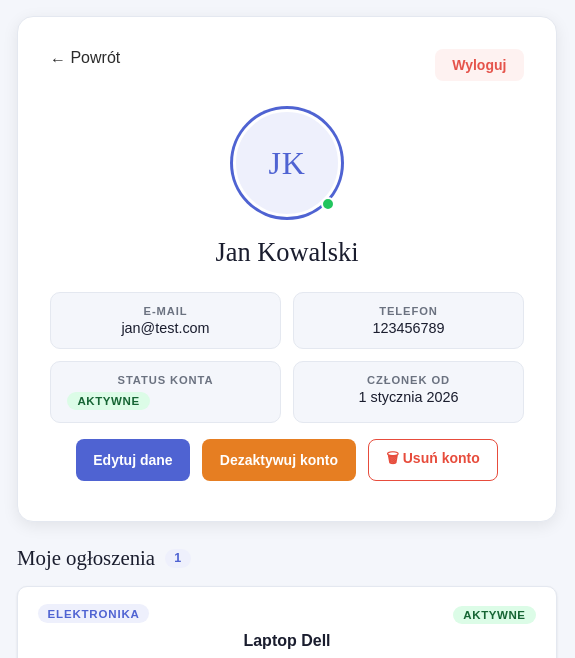
UserProfile › anuluje edycję danych
Check: the heading "Jan Kowalski" is shown, box top-left (216, 237), bottom-right (358, 268)
Click the button "Edytuj dane".
click(133, 460)  # box top-left (76, 439), bottom-right (190, 481)
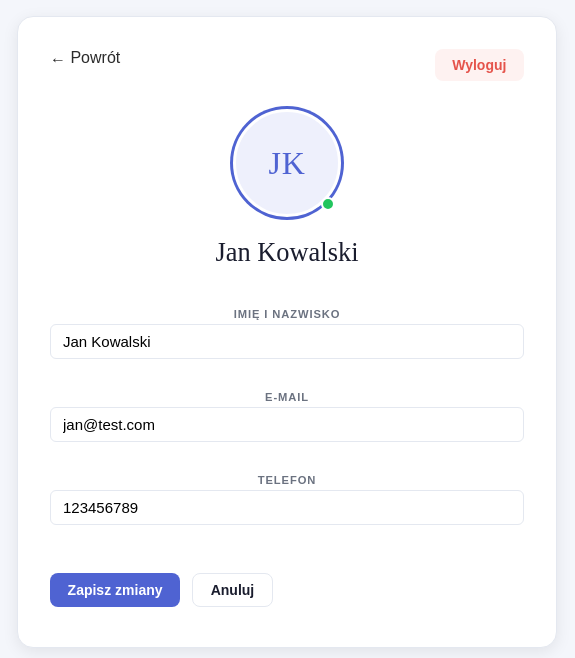
Type "Nowe Imię" into the field showing "Jan Kowalski".
click(287, 342); type("Nowe Imię")  # box top-left (50, 324), bottom-right (524, 359)
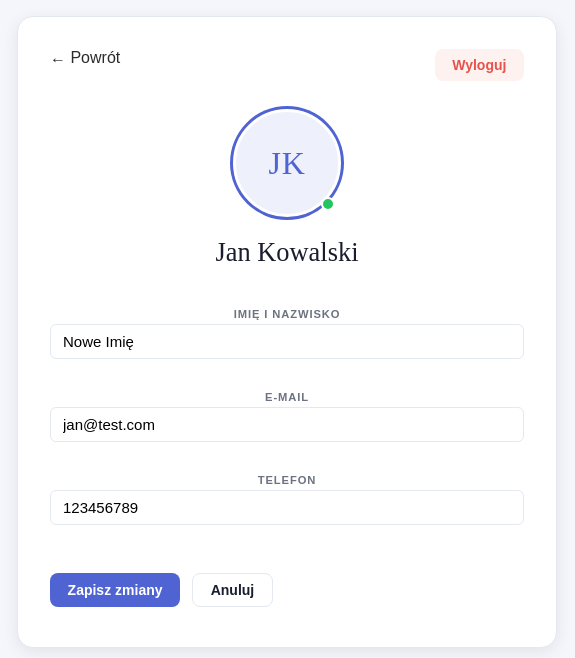
Click the button "Anuluj".
click(232, 590)  # box top-left (192, 573), bottom-right (273, 607)
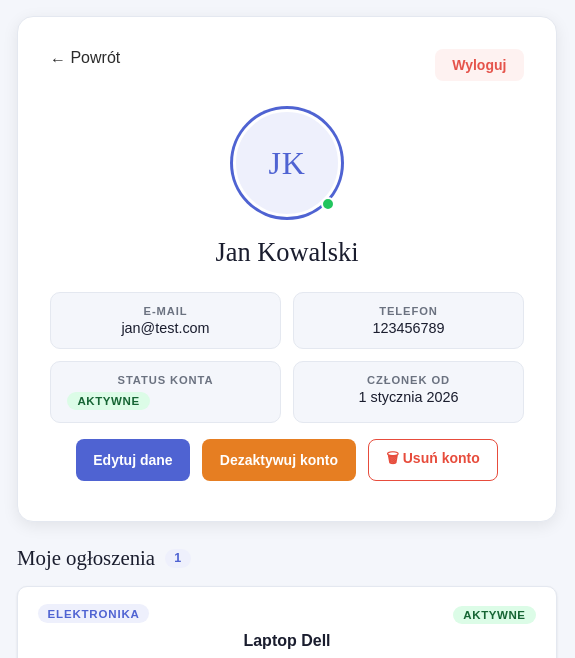
Check: the button "Zapisz zmiany" is gone
